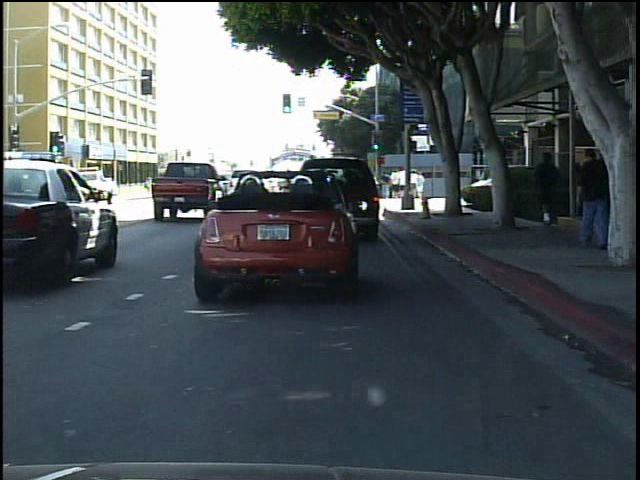person: (569, 139, 612, 258), (528, 146, 570, 236), (142, 174, 161, 201)
